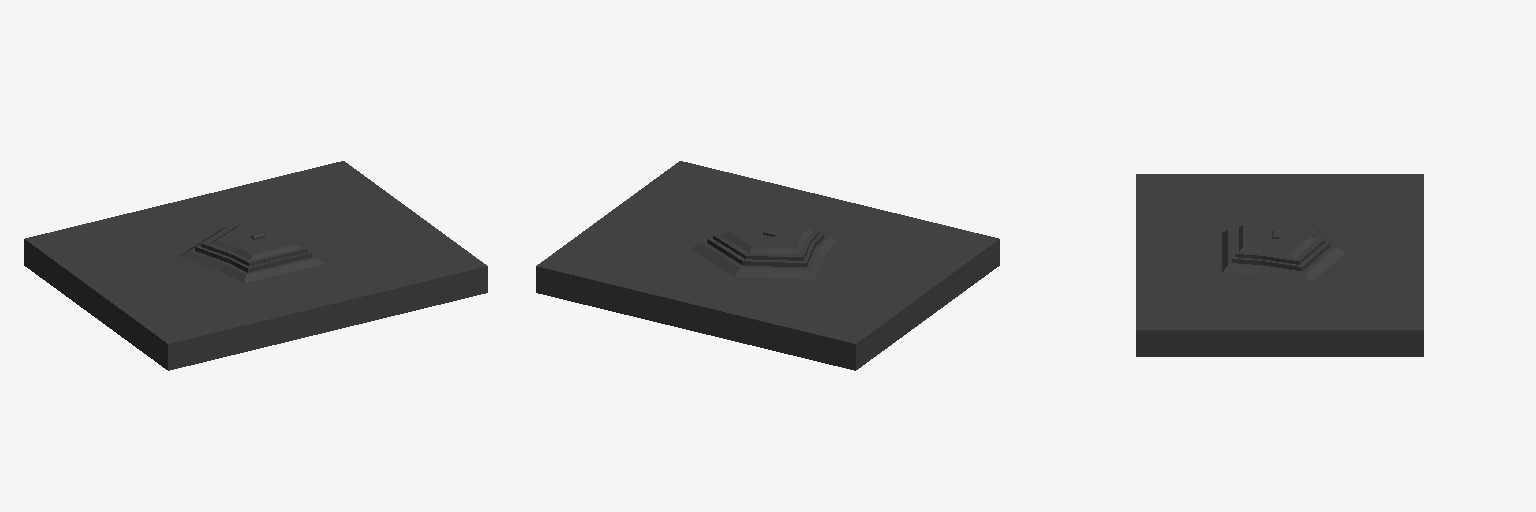
Rendered from Floor1_BackRoom.obj.
3 views of the same model, side by side, from view 1: azimuth 30°, elevation 25°; view 2: azimuth 150°, elevation 25°; view 3: azimuth 270°, elevation 25° (orthographic).
Visible parts, largest first — view 1: Floor1_BackRoom_Cube.010; view 2: Floor1_BackRoom_Cube.010; view 3: Floor1_BackRoom_Cube.010.
Part boxes in pixels (x1,y1,x2,y2): Floor1_BackRoom_Cube.010: (24, 161, 487, 370); Floor1_BackRoom_Cube.010: (536, 161, 999, 370); Floor1_BackRoom_Cube.010: (1136, 174, 1423, 356).
Bounding box in the file's own units: 9.13 × 1.27 × 7.12.